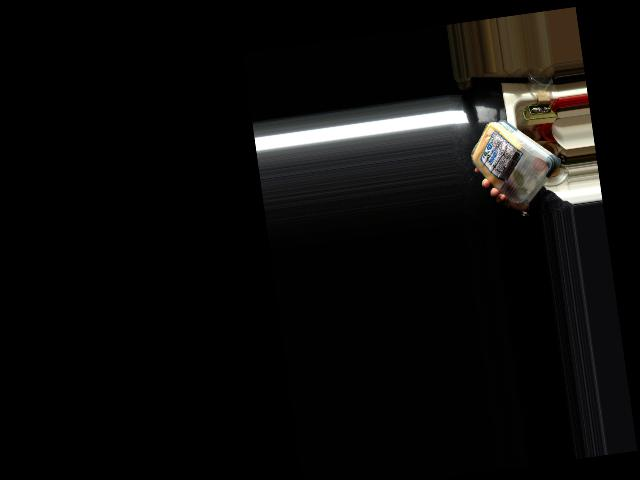cheese: (471, 113, 553, 209)
